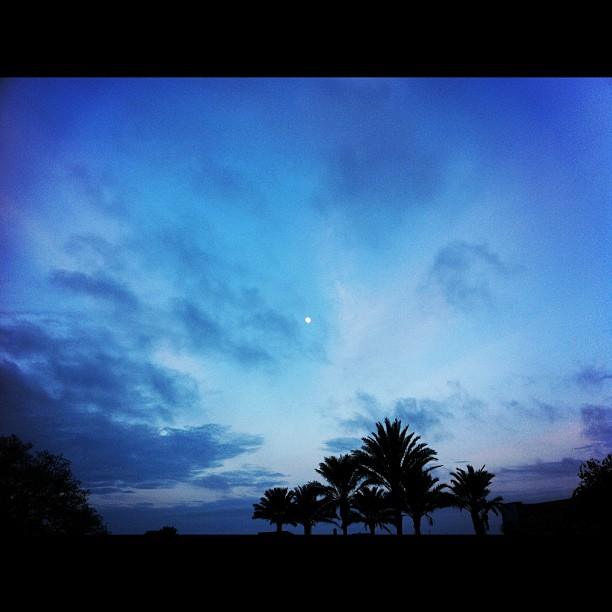sky: (1, 79, 612, 486)
tree: (359, 421, 423, 536), (321, 453, 370, 538), (453, 463, 505, 542), (406, 478, 458, 536), (293, 472, 335, 537), (255, 480, 298, 529)
